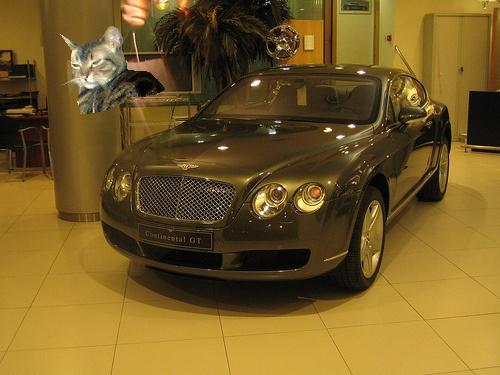tampered: (55, 27, 165, 114)
